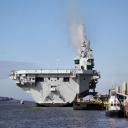Portanaves: (9, 24, 103, 108)
